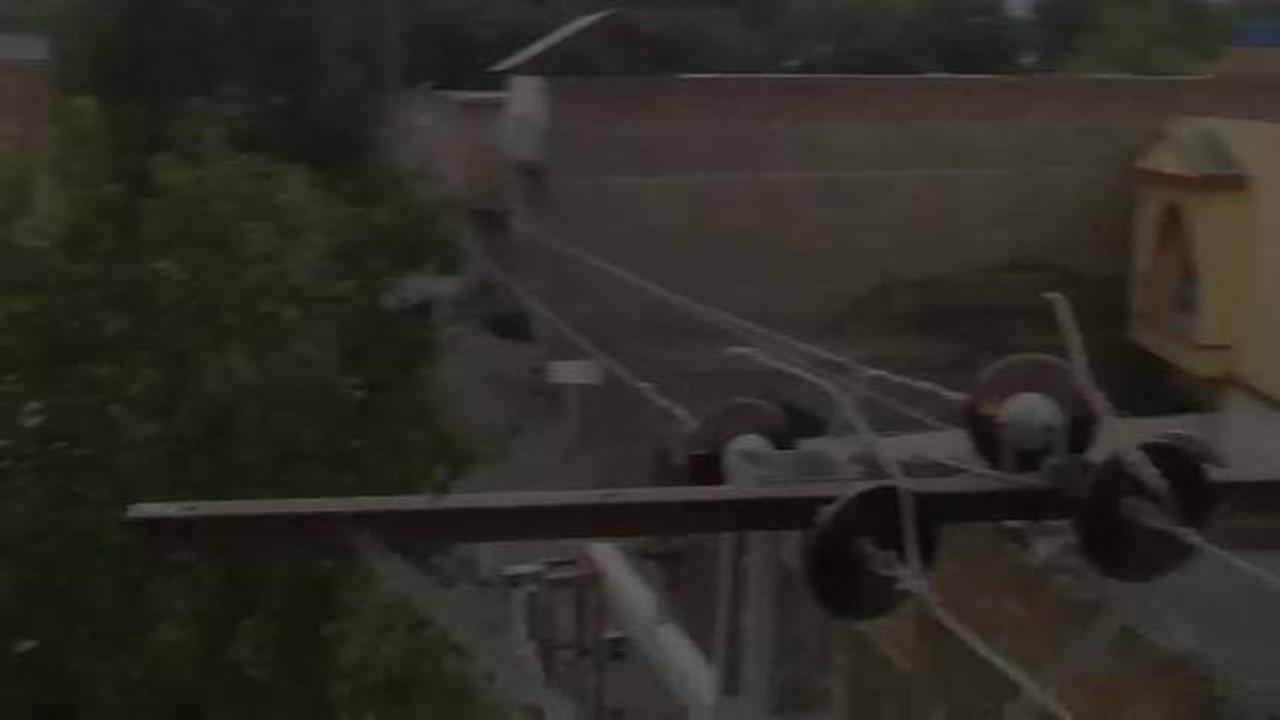insulator_disc: (1066, 426, 1214, 588), (797, 476, 940, 629), (961, 348, 1086, 464), (681, 393, 785, 473)
